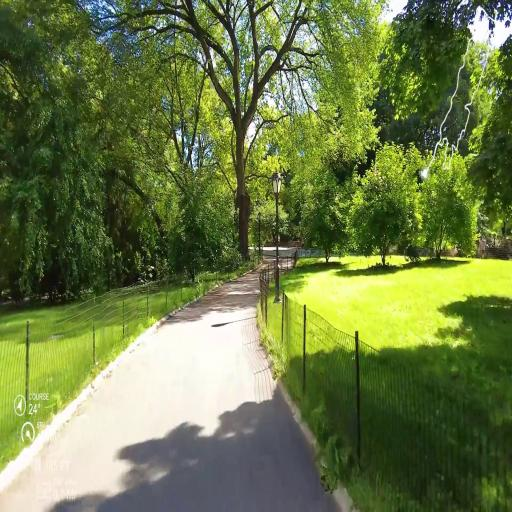Street_Light: (268, 163, 288, 301)
